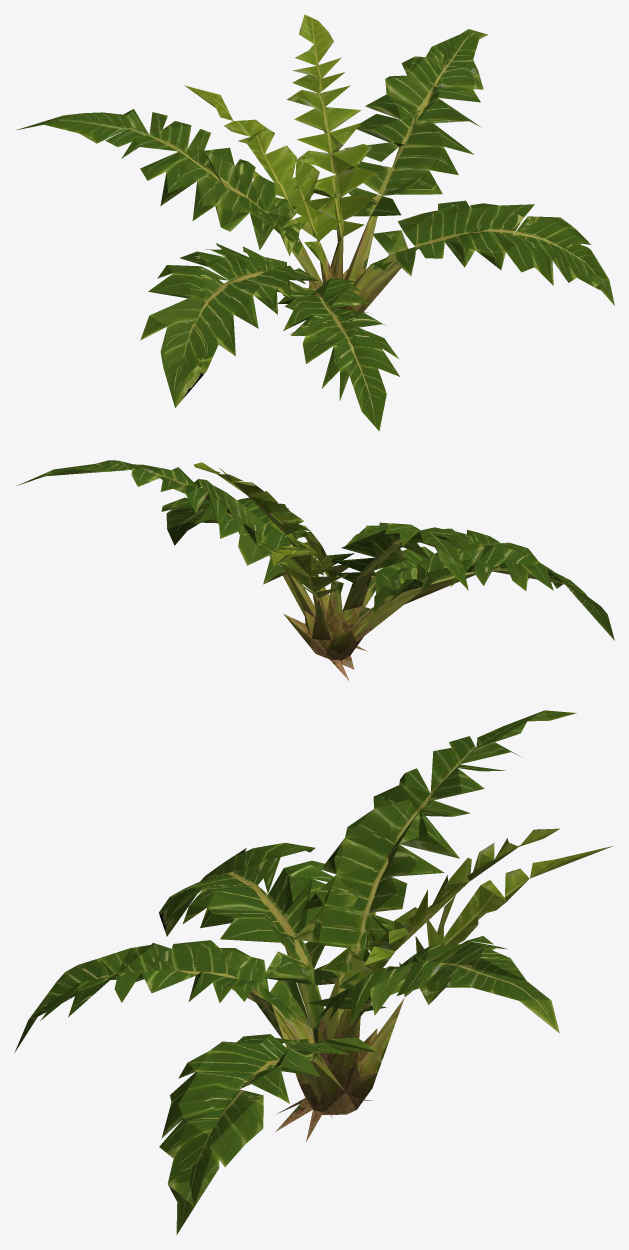
The model's file is fo_shade_fern.glb.
The picture shows the model from 3 angles, top to bottom: view 1: azimuth 30°, elevation 25°; view 2: azimuth 150°, elevation 25°; view 3: azimuth 270°, elevation 25°; orthographic projection. The views are drawn at different scales.
Visible parts, largest first — view 1: output_unwrapped; view 2: output_unwrapped; view 3: output_unwrapped.
Boxes of the visible parts, <box> form: output_unwrapped: <box>16,14,614,431</box>; output_unwrapped: <box>15,460,614,680</box>; output_unwrapped: <box>14,710,612,1234</box>.
Bounding box in the file's own units: 1.9 × 0.9651 × 1.59.
Materials: 1 (1 with a texture image).
